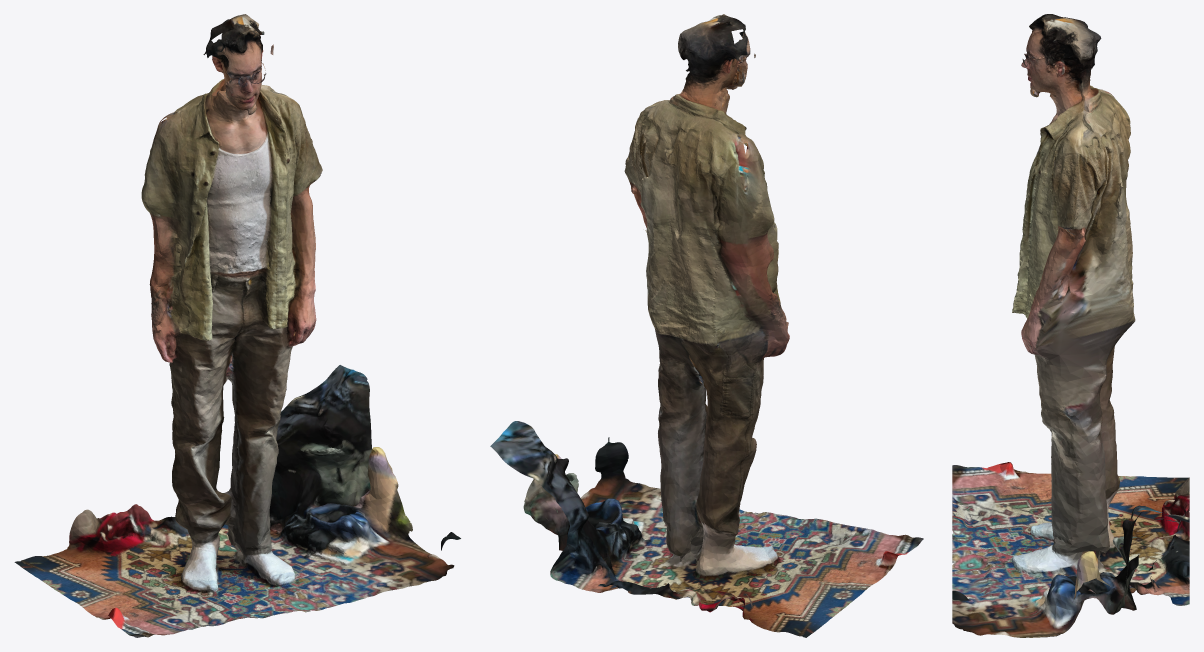
3 renders of one model, left to right at view 1: azimuth 30°, elevation 25°; view 2: azimuth 150°, elevation 25°; view 3: azimuth 270°, elevation 25°, orthographic. The views are drawn at different scales.
Bounding box in the file's own units: 1.86 × 3.04 × 1.21.
Materials: 1 (1 with a texture image).
